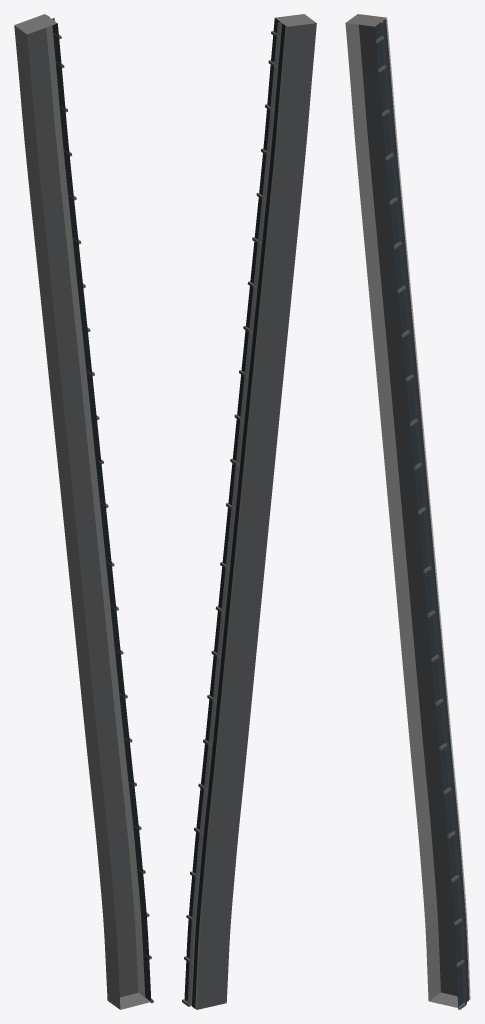
The model's file is Pit_Building.fbx.
3 views of the same model, side by side, from view 1: azimuth 30°, elevation 25°; view 2: azimuth 210°, elevation 25°; view 3: azimuth 330°, elevation 25° (orthographic). The views are drawn at different scales.
Visible parts, largest first — view 1: Pit_Building; view 2: Pit_Building; view 3: Pit_Building.
Boxes of the visible parts, bbox=[...] form: Pit_Building: bbox=[14, 14, 153, 1009]; Pit_Building: bbox=[182, 14, 316, 1009]; Pit_Building: bbox=[345, 14, 470, 1009].
Bounding box in the file's own units: 5202 × 1205 × 40163.
